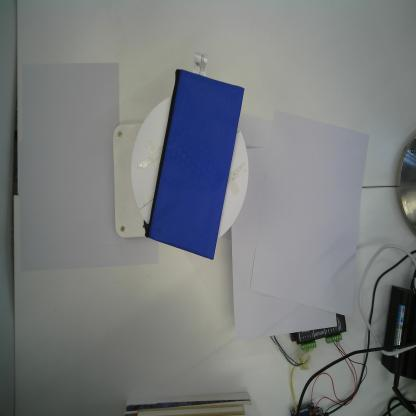Stationery: (141, 49, 247, 262)
